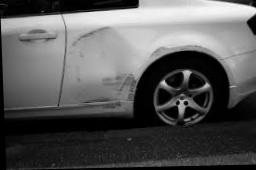Bumper: (231, 67, 256, 109)
Fender: (59, 19, 180, 113)
